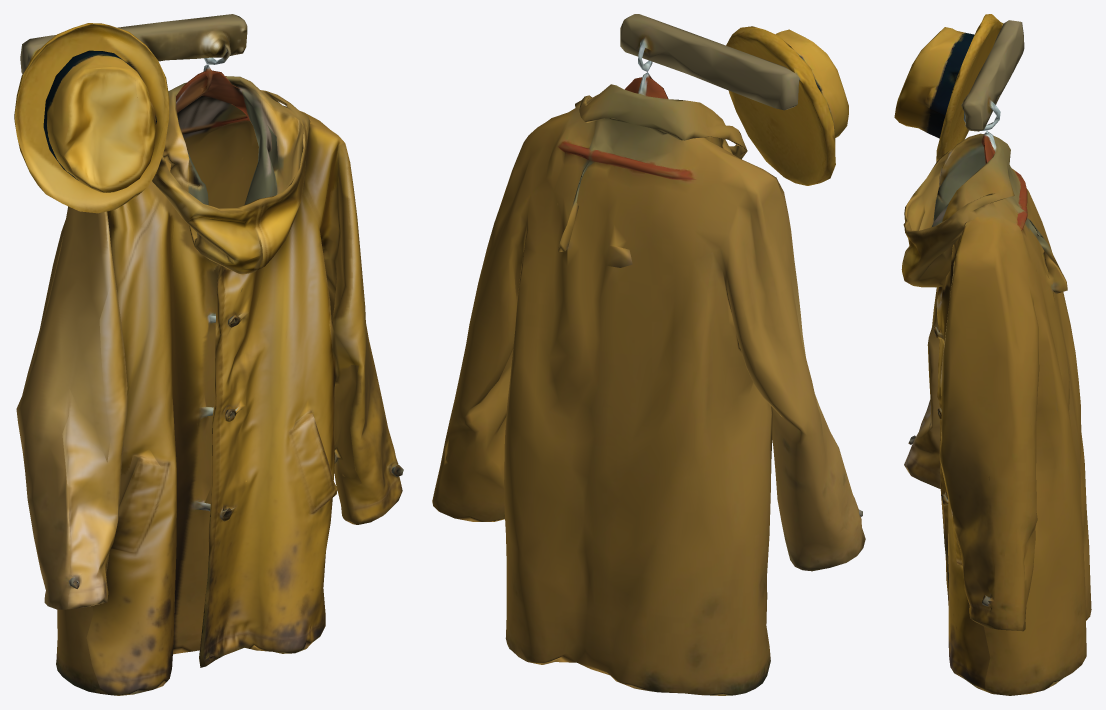
Rendered from oilskins.fbx.
3 views of the same model, side by side, from view 1: azimuth 30°, elevation 25°; view 2: azimuth 150°, elevation 25°; view 3: azimuth 270°, elevation 25° (orthographic). The views are drawn at different scales.
Visible parts, largest first — view 1: Mesh_0.001; view 2: Mesh_0.001; view 3: Mesh_0.001.
Boxes of the visible parts, left/top/right/bottom form: Mesh_0.001: left=14, top=14, right=403, bottom=695; Mesh_0.001: left=432, top=14, right=865, bottom=695; Mesh_0.001: left=894, top=14, right=1091, bottom=695.
Size of the model in its own units: 0.5583 by 0.8956 by 0.2778.
Materials: 1 (1 with a texture image).
